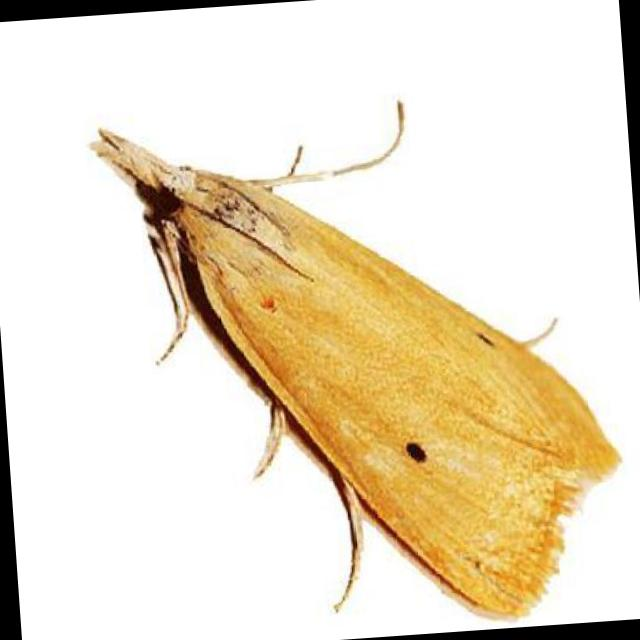stem-borer: (71, 81, 634, 640)
